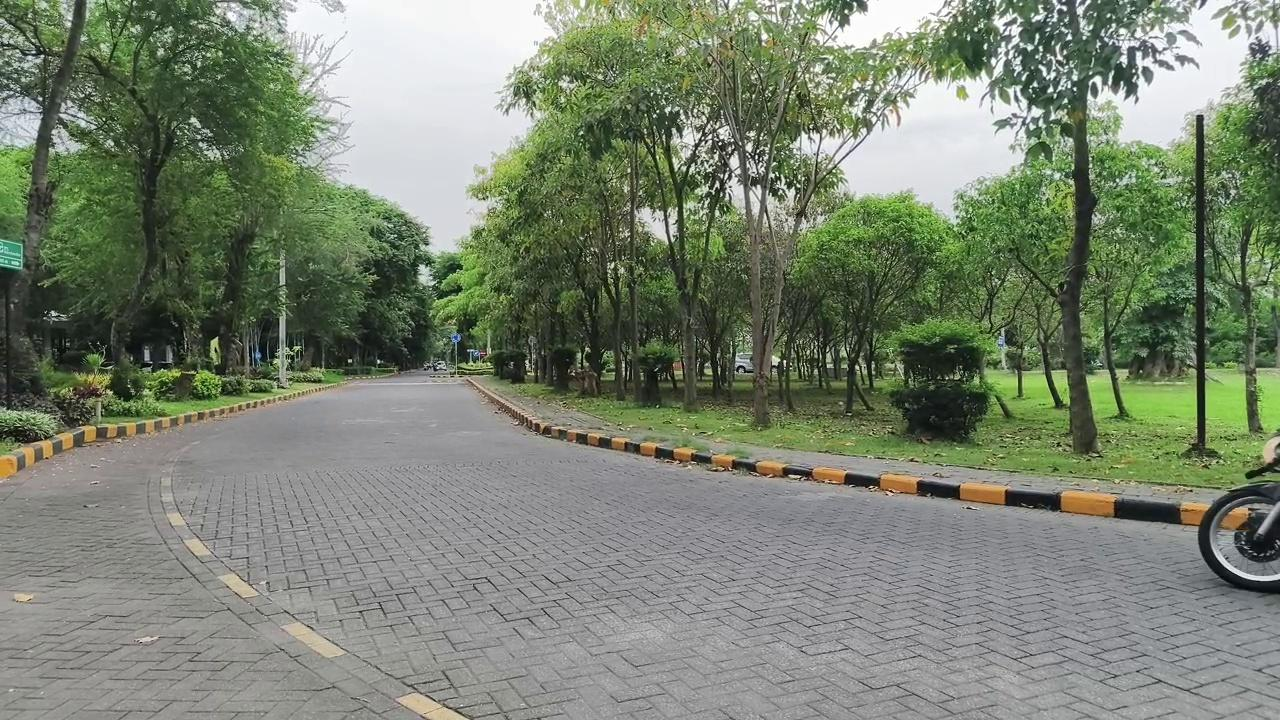Motor: (1198, 436, 1279, 590)
